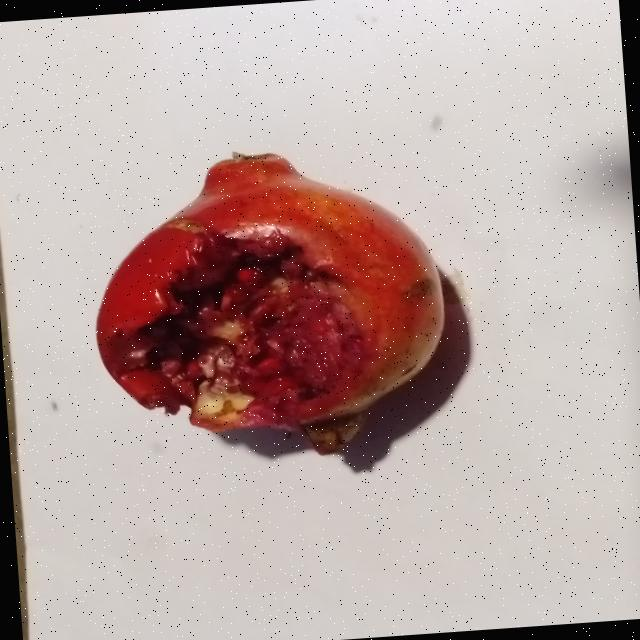Rotten: (79, 138, 462, 466)
